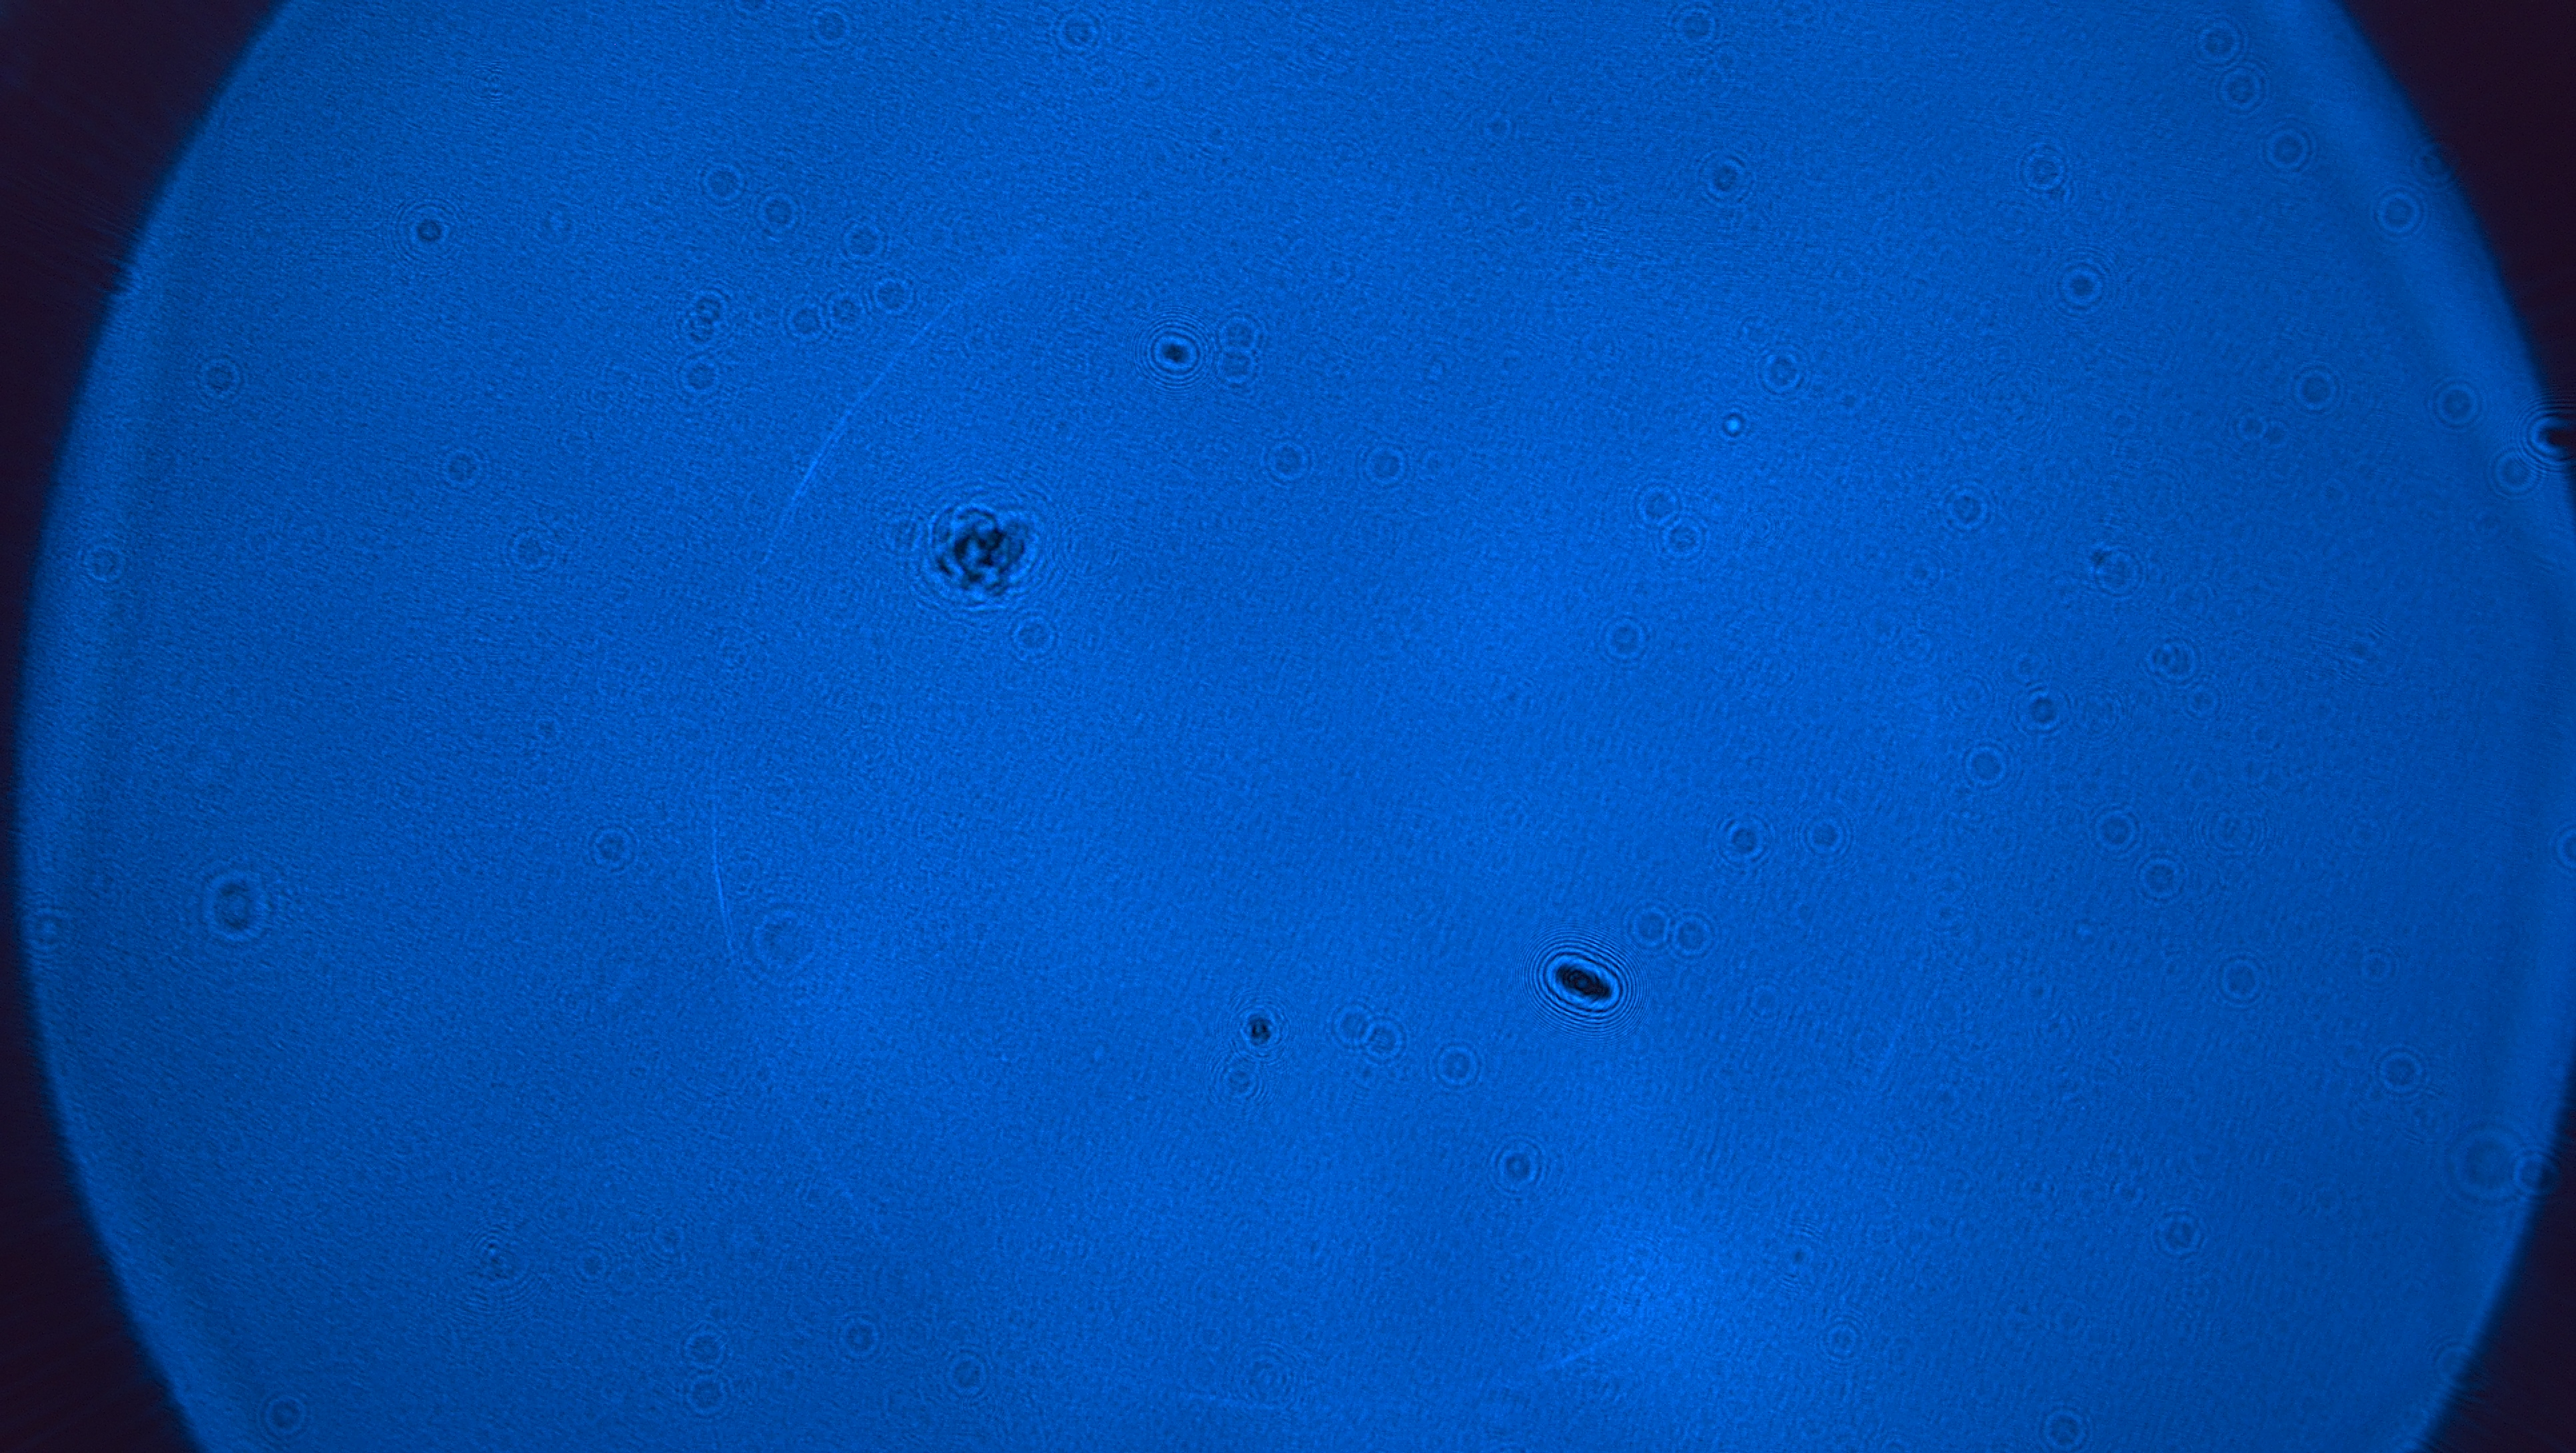bead: (172, 345, 260, 414), (2045, 248, 2121, 322), (2146, 1196, 2220, 1271), (419, 432, 501, 499), (2360, 1034, 2440, 1097), (1583, 605, 1660, 667), (1253, 428, 1323, 494), (495, 522, 568, 582), (681, 150, 752, 211), (2252, 120, 2325, 179), (2279, 361, 2353, 418), (2358, 179, 2424, 241), (1037, 11, 1115, 62), (2426, 365, 2486, 430), (828, 1304, 888, 1366), (2081, 798, 2143, 858), (1426, 1034, 1488, 1094), (1946, 742, 2019, 793), (1667, 904, 1725, 968), (2204, 950, 2272, 1005), (669, 349, 732, 404), (2035, 1398, 2098, 1453), (2013, 138, 2072, 196), (876, 267, 929, 327), (78, 536, 134, 589), (1316, 996, 1375, 1048), (830, 214, 890, 264), (674, 1320, 734, 1370), (1619, 897, 1674, 950), (2135, 857, 2194, 904), (755, 186, 803, 241), (803, 4, 855, 53), (1364, 1018, 1410, 1062)
